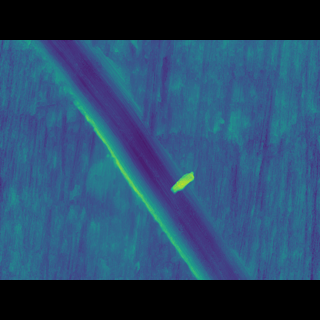Loch: (33, 69, 255, 250)
